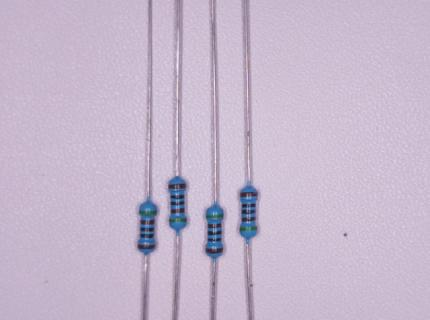Black band: (208, 231, 221, 236), (140, 228, 154, 232), (140, 234, 154, 238), (171, 201, 185, 205), (170, 195, 184, 199), (242, 210, 256, 214), (242, 204, 256, 208), (208, 238, 221, 241)
Brown band: (206, 247, 223, 254), (169, 183, 186, 189), (138, 244, 156, 249), (241, 192, 258, 197), (141, 220, 155, 225), (171, 208, 185, 213), (242, 217, 256, 222), (208, 224, 222, 228)
Green band: (139, 210, 157, 215), (170, 218, 186, 223), (240, 227, 257, 231), (207, 214, 223, 218)
